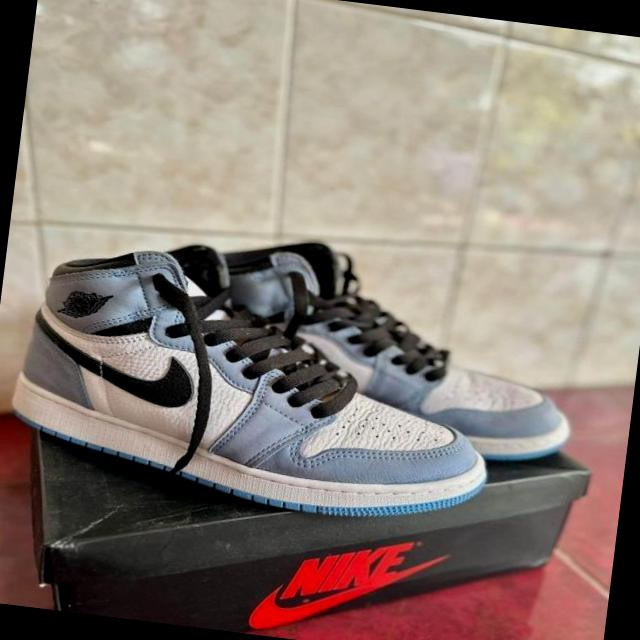nike_fake_jordan: (3, 221, 513, 538)
